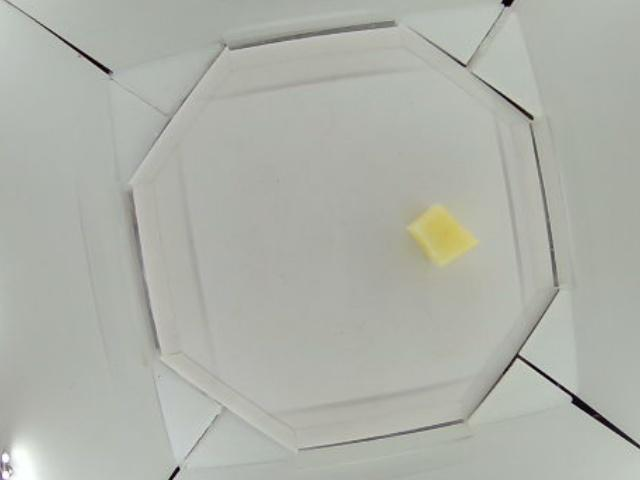Potato: (408, 203, 477, 265)
